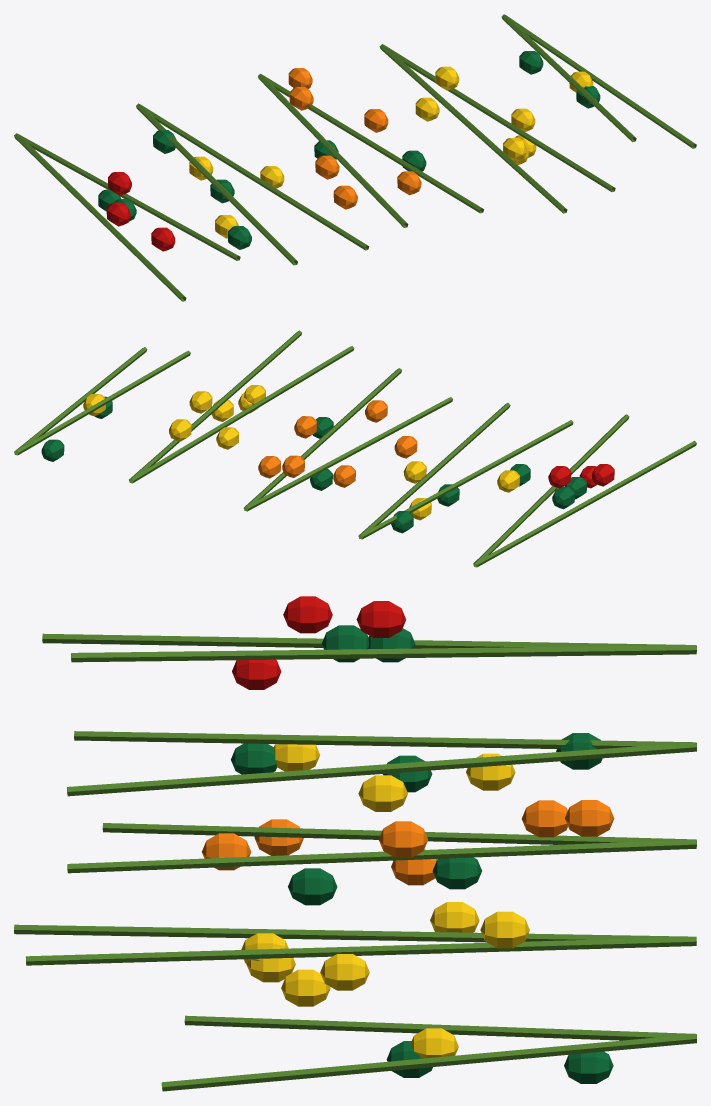
File: r23c4_stems.obj
3 views of the same model, one above another, from view 1: azimuth 30°, elevation 25°; view 2: azimuth 150°, elevation 25°; view 3: azimuth 270°, elevation 25° (orthographic). The views are drawn at different scales.
Parts seen in each view (by area): view 1: r23c4_stems; view 2: r23c4_stems; view 3: r23c4_stems.
Part boxes in pixels (box(x1,y1,x2,y2)): r23c4_stems: box(14, 14, 696, 301); r23c4_stems: box(14, 330, 696, 567); r23c4_stems: box(14, 596, 696, 1091).
Bounding box in the file's own units: 2.1 × 0.241 × 1.37.
